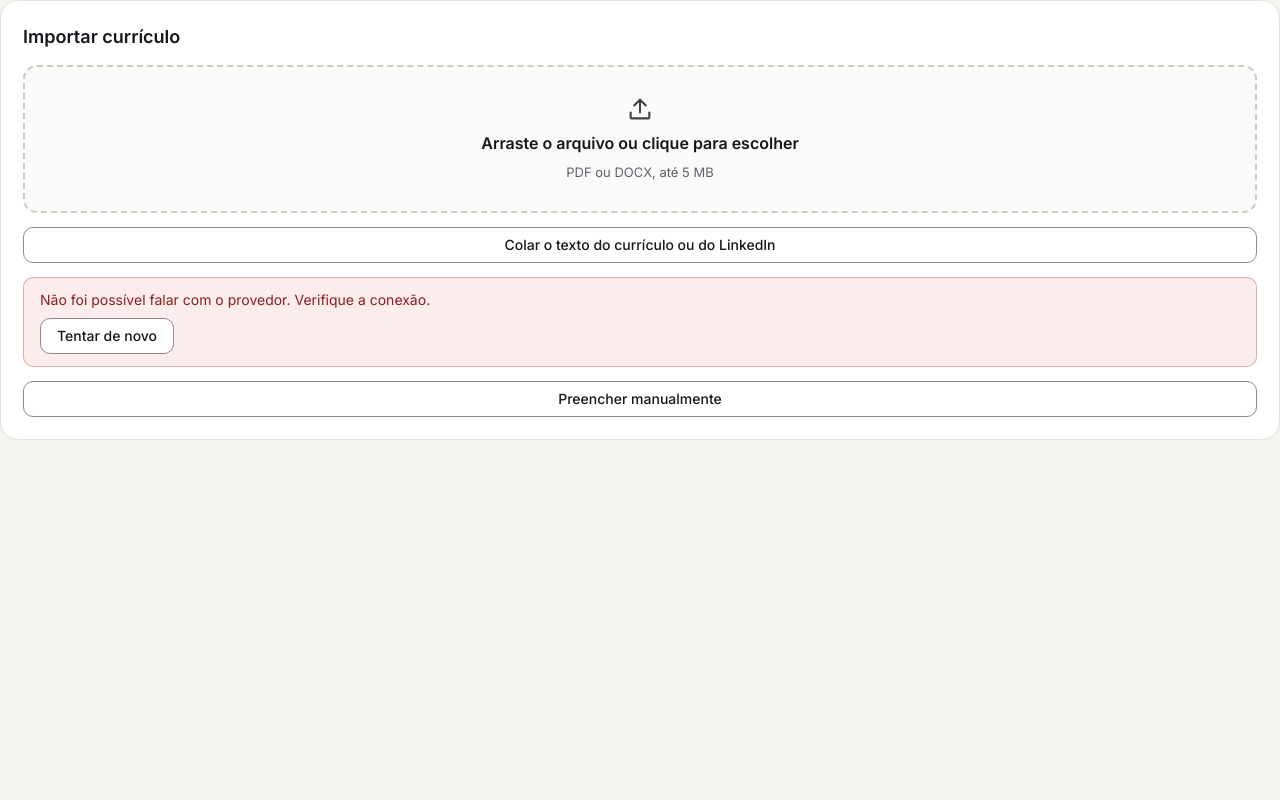
Test case: ImportPanel: modal de progresso › Tentar de novo recomeça do zero
The width and height of the screenshot is (1280, 800).
Earlier steps of the test are not shown.
Click the button "Tentar de novo" at (107, 336), box top-left (40, 318), bottom-right (174, 354)
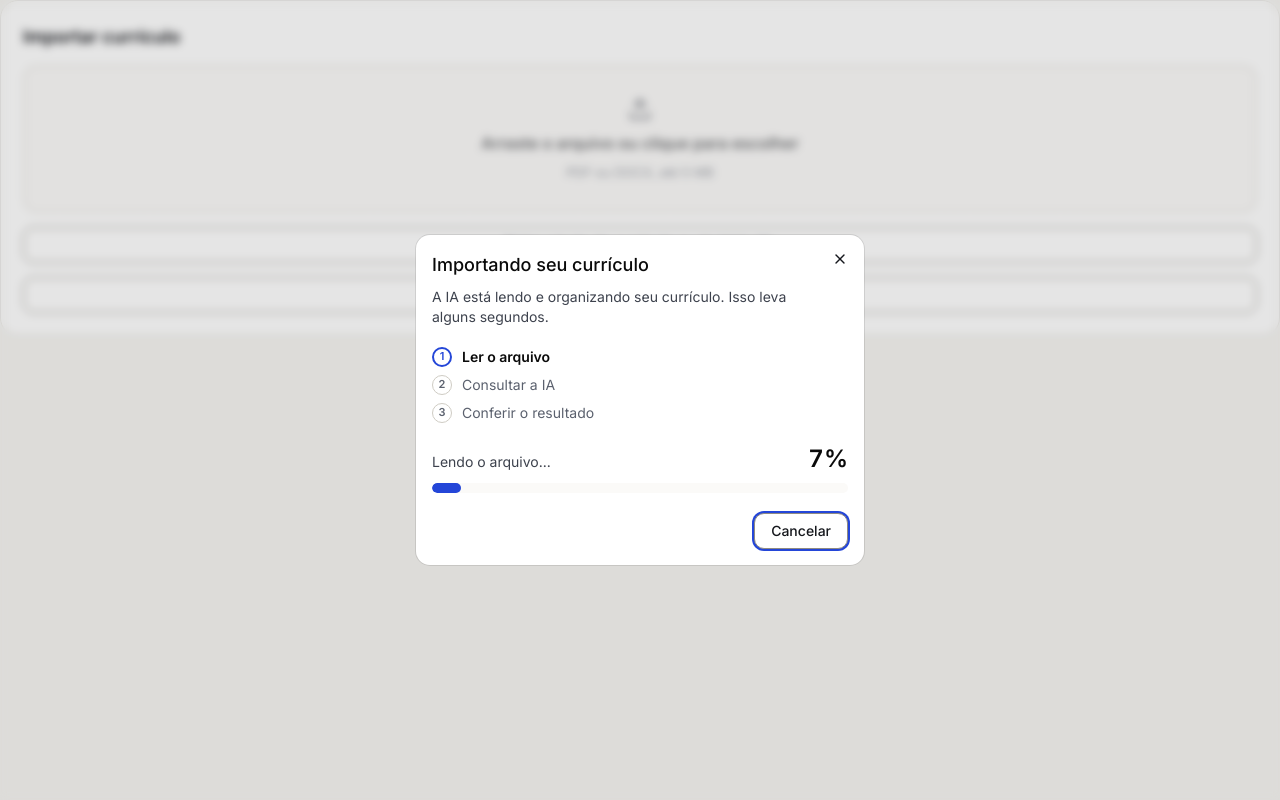
Expected: the dialog "Importando seu currículo" is shown, top-left (416, 235), bottom-right (864, 565)
